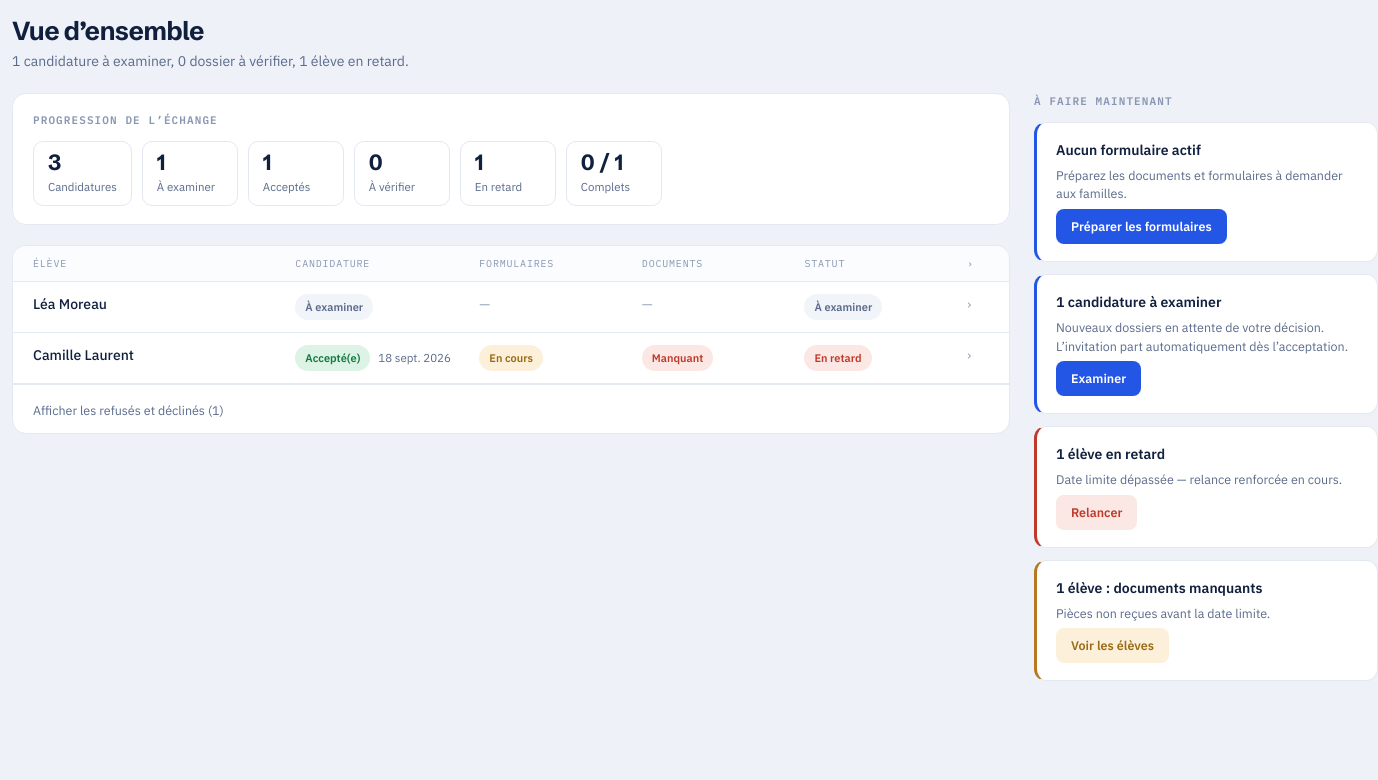
Test: OverviewView — unified lifecycle table › dates a declined row too — the rule is responded_at, not acceptance
The width and height of the screenshot is (1378, 780).
Click the button "Afficher les refusés et déclinés (1)" at (128, 410), box [33,401,224,420]
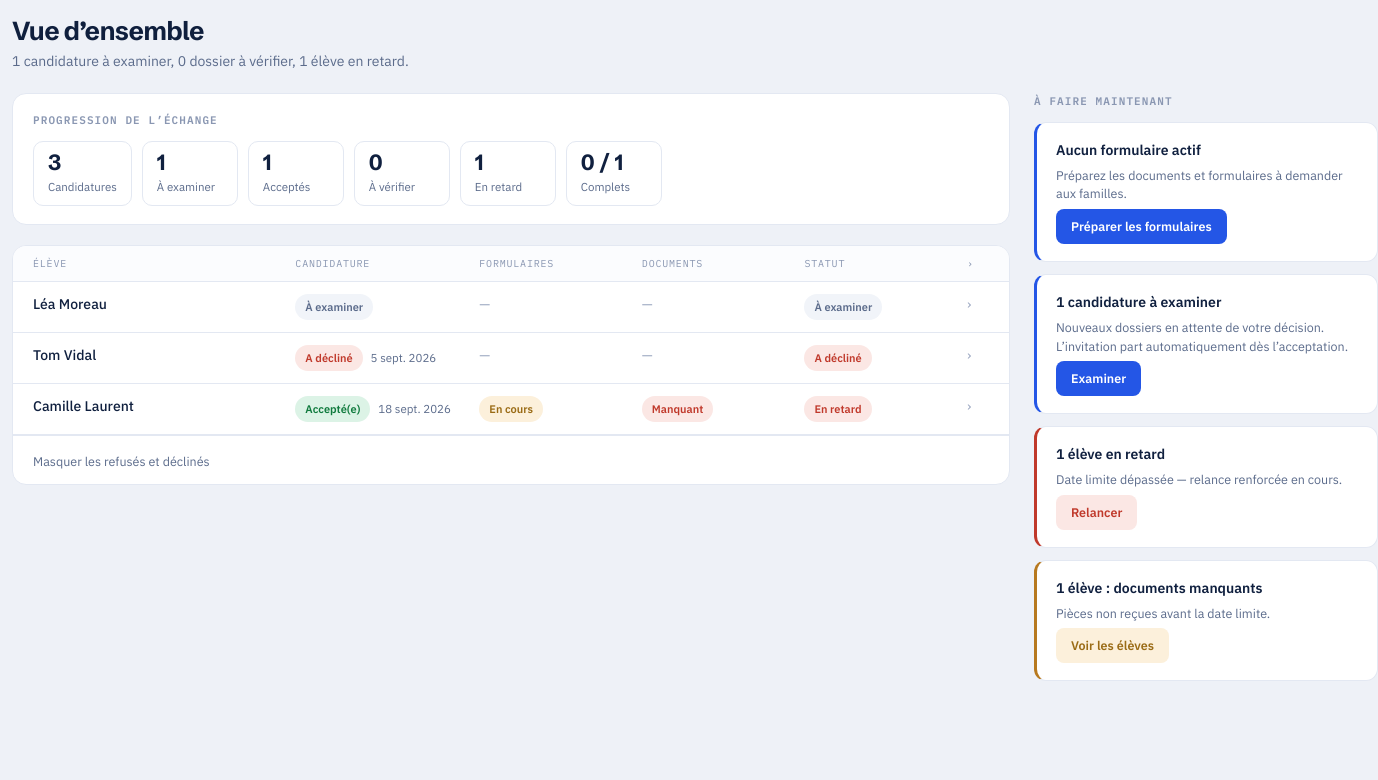
Check: the text titled "5 septembre 2026" reads "5 sept. 2026", box [371,350,436,365]
Check: the number of elements titled "septembre 2026" is 2, box [371,348,436,368]; [378,399,451,419]
